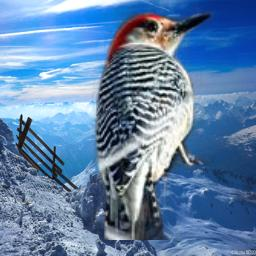Woodpecker: (89, 0, 219, 240)
